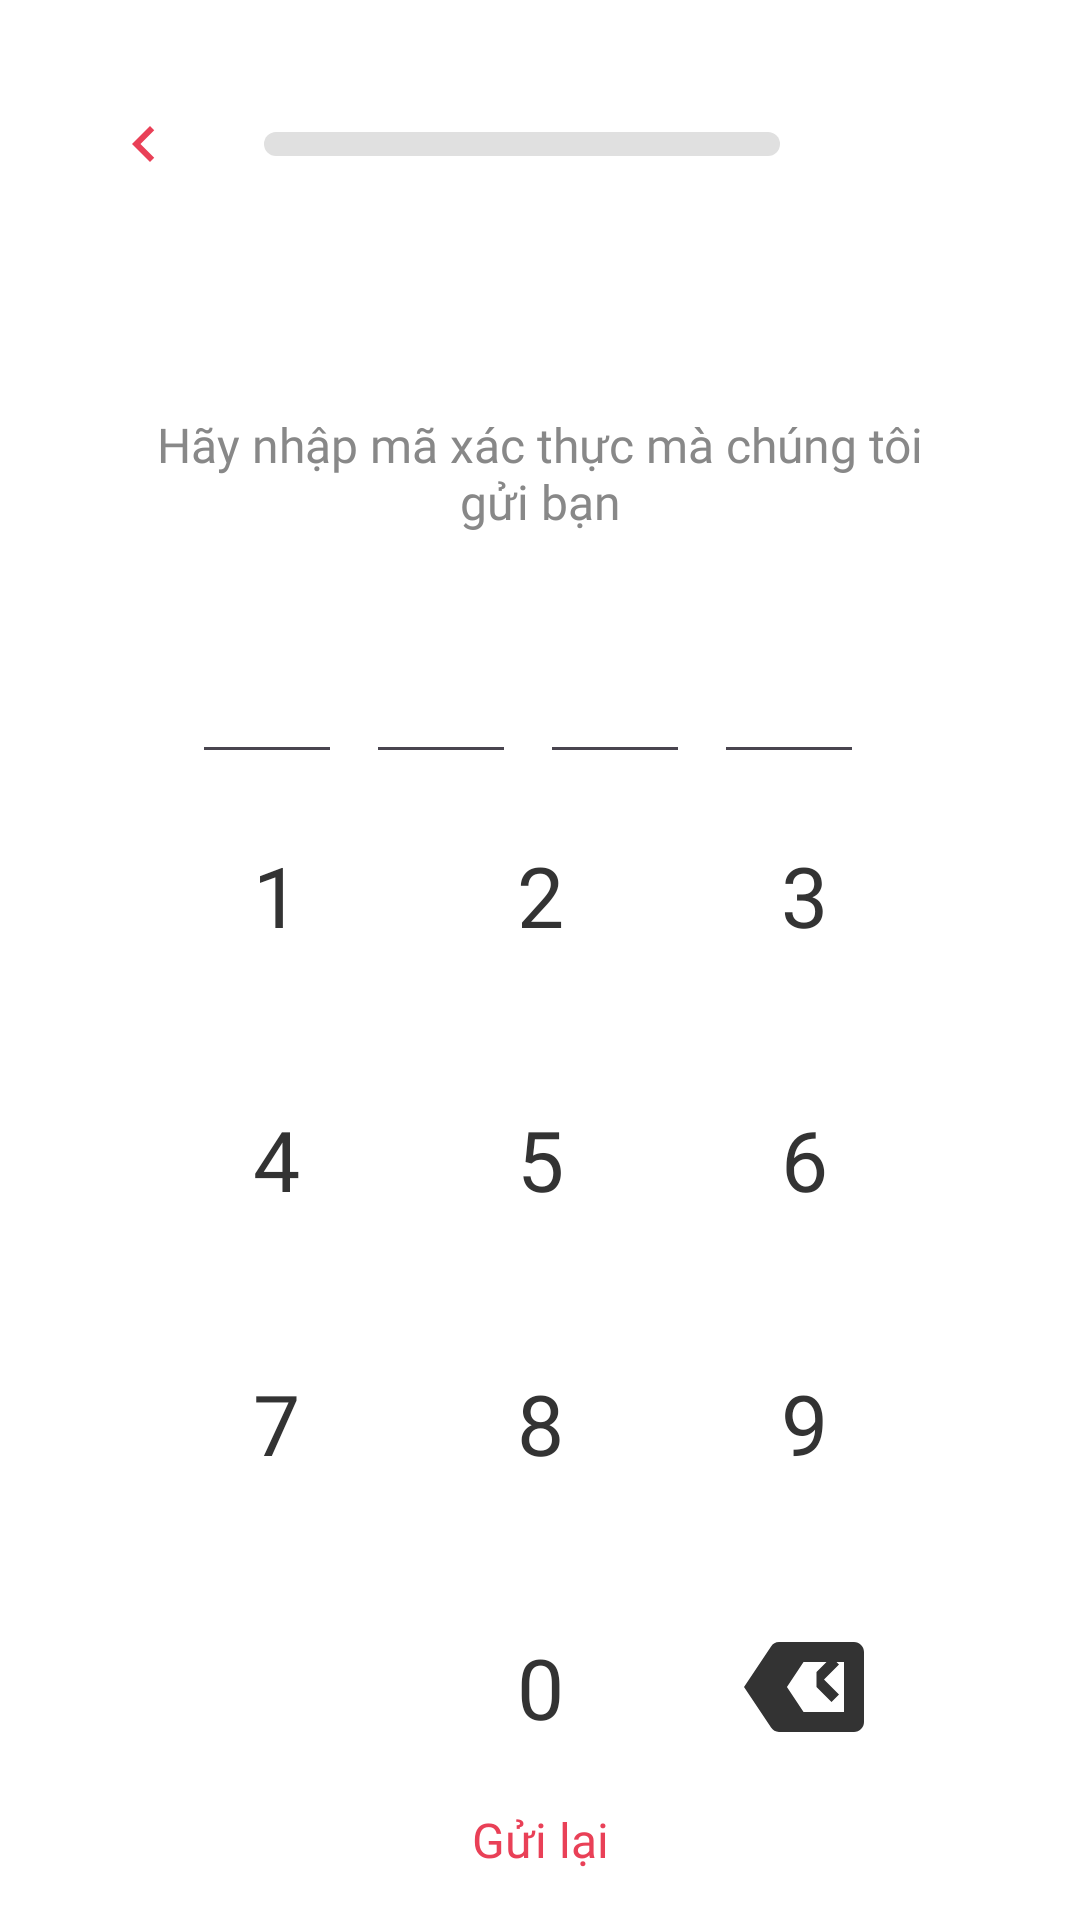

Named icons in this screenshot (1080px×1920px) and their centers, point (x, y):
back arrow: point (143, 144)
backspace: point (804, 1687)
